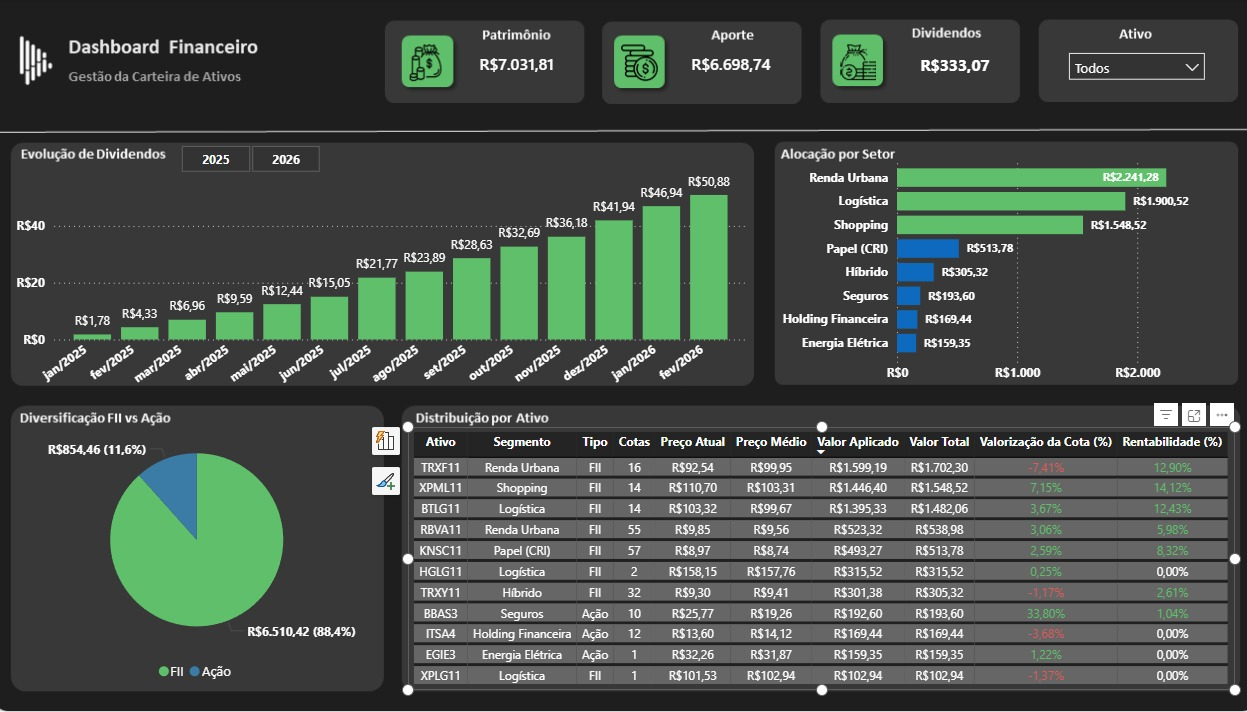

This screenshot's page, from the dashboard's own definition file:
{"tool":"powerbi","page":{"name":"Visão Geral","canvas":[1280,720],"ordinal":0},"visuals":[{"type":"cardVisual","fields":{"Data":["Medidas.Patrimonio"]},"box":[396.8,22.4,200.2,82.6],"z":0},{"type":"cardVisual","fields":{"Data":["Medidas.TotalDividendos"]},"box":[836.4,23.6,200.9,82.7],"z":1000},{"type":"slicer","fields":{"Values":["dAtivos.Ativo"]},"box":[1077.3,44,157.1,61.9],"z":2000},{"type":"slicer","fields":{"Values":["dCalendario.Ano"]},"box":[167,140.9,189.4,35.9],"z":3000},{"type":"pieChart","fields":{"Category":["fAportes.Tipo"],"Y":["Medidas.Patrimonio"]},"box":[21.5,422.8,374.4,272.9],"z":4000},{"type":"tableEx","fields":{"Values":["dAtivos.Ativo","dAtivos.Segmento","dAtivos.Tipo","dVisãoGeral.Cotas","dVisãoGeral.Preço Atual","dVisãoGeral.Preço Médio","dVisãoGeral.Valor Aplicado","dVisãoGeral.Valor Total","Sum(dVisãoGeral.Valorização da Cota)","Sum(dVisãoGeral.Rentabilidade)"]},"box":[421.3,431.4,833.5,265.1],"z":5000},{"type":"columnChart","fields":{"Category":["dCalendario.MesAno"],"Y":["Sum(fDividendos.Dividendo)"]},"box":[21.2,159.2,746.8,247.9],"z":6000},{"type":"cardVisual","fields":{"Data":["Medidas.TotalAportes"]},"box":[615.9,22.4,200.2,82.6],"z":7000},{"type":"barChart","fields":{"Category":["dAtivos.Segmento"],"Y":["Medidas.Patrimonio"]},"box":[789.2,148.2,482.8,246.9],"z":8000}]}

Visuals, with their boxes in screenshot pixels (x1, y1, x2, y2), scaled from the page's 1280x720 canvas onto the 1247x712 screenshot:
cardVisual - Medidas.Patrimonio: [x1=387, y1=22, x2=582, y2=104]
cardVisual - Medidas.TotalDividendos: [x1=815, y1=23, x2=1011, y2=105]
slicer - dAtivos.Ativo: [x1=1050, y1=44, x2=1203, y2=105]
slicer - dCalendario.Ano: [x1=163, y1=139, x2=347, y2=175]
pieChart - fAportes.Tipo x Medidas.Patrimonio: [x1=21, y1=418, x2=386, y2=688]
tableEx - dAtivos.Ativo x dAtivos.Segmento: [x1=410, y1=427, x2=1222, y2=689]
columnChart - dCalendario.MesAno x Sum(fDividendos.Dividendo): [x1=21, y1=157, x2=748, y2=403]
cardVisual - Medidas.TotalAportes: [x1=600, y1=22, x2=795, y2=104]
barChart - dAtivos.Segmento x Medidas.Patrimonio: [x1=769, y1=147, x2=1239, y2=391]
